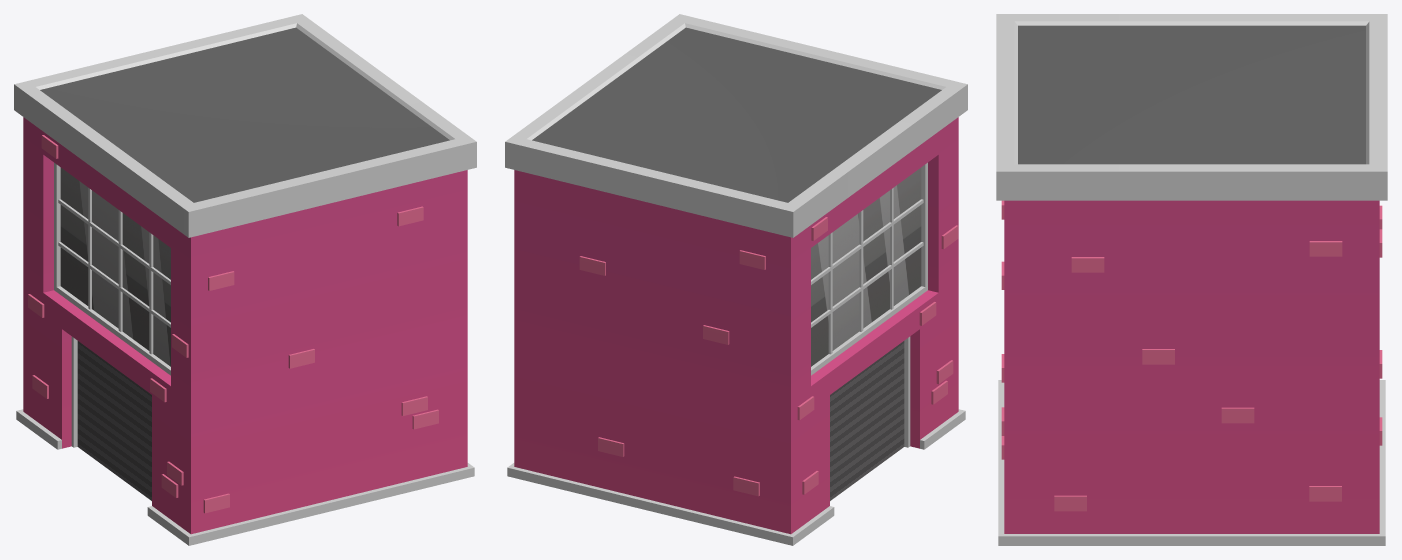
File: Building_10_F.fbx
The picture shows the model from 3 angles, left to right: view 1: azimuth 30°, elevation 25°; view 2: azimuth 150°, elevation 25°; view 3: azimuth 270°, elevation 25°; orthographic projection. The views are drawn at different scales.
Visible parts, largest first — view 1: Building_10_F; view 2: Building_10_F; view 3: Building_10_F.
Part boxes in pixels (x1=…): Building_10_F: x1=14, y1=14, x2=476, y2=545; Building_10_F: x1=505, y1=14, x2=967, y2=545; Building_10_F: x1=996, y1=14, x2=1387, y2=545.
Bounding box in the file's own units: 701 × 779 × 736.
